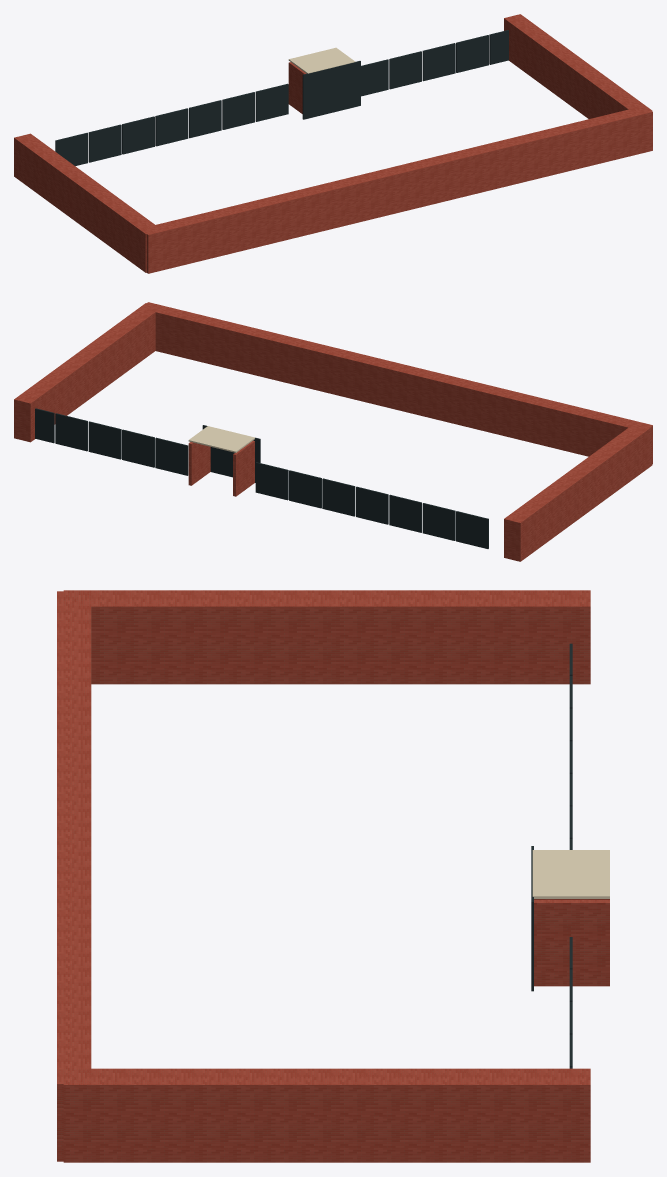
File: KOL_T1_NEW_MARKET__01_PrimaryStructure.fbx
The picture shows the model from 3 angles, top to bottom: view 1: azimuth 30°, elevation 25°; view 2: azimuth 150°, elevation 25°; view 3: azimuth 270°, elevation 25°; orthographic projection. The views are drawn at different scales.
Parts seen in each view (by area): view 1: KOL_T1_NEW_MARKET__01_PrimaryStructure__KOL_T1_B4_Brick_00, KOL_T1_NEW_MARKET__01_PrimaryStructure__KOL_T1_B4_Dark_00, KOL_T1_NEW_MARKET__01_PrimaryStructure__KOL_T1_B4_Ivory_00; view 2: KOL_T1_NEW_MARKET__01_PrimaryStructure__KOL_T1_B4_Brick_00, KOL_T1_NEW_MARKET__01_PrimaryStructure__KOL_T1_B4_Dark_00, KOL_T1_NEW_MARKET__01_PrimaryStructure__KOL_T1_B4_Ivory_00; view 3: KOL_T1_NEW_MARKET__01_PrimaryStructure__KOL_T1_B4_Brick_00, KOL_T1_NEW_MARKET__01_PrimaryStructure__KOL_T1_B4_Ivory_00, KOL_T1_NEW_MARKET__01_PrimaryStructure__KOL_T1_B4_Dark_00.
Boxes of the visible parts, x1=… form: KOL_T1_NEW_MARKET__01_PrimaryStructure__KOL_T1_B4_Brick_00: x1=14, y1=14, x2=652, y2=273; KOL_T1_NEW_MARKET__01_PrimaryStructure__KOL_T1_B4_Dark_00: x1=55, y1=30, x2=508, y2=165; KOL_T1_NEW_MARKET__01_PrimaryStructure__KOL_T1_B4_Ivory_00: x1=288, y1=47, x2=355, y2=73; KOL_T1_NEW_MARKET__01_PrimaryStructure__KOL_T1_B4_Brick_00: x1=14, y1=302, x2=652, y2=561; KOL_T1_NEW_MARKET__01_PrimaryStructure__KOL_T1_B4_Dark_00: x1=35, y1=408, x2=488, y2=548; KOL_T1_NEW_MARKET__01_PrimaryStructure__KOL_T1_B4_Ivory_00: x1=188, y1=426, x2=254, y2=452; KOL_T1_NEW_MARKET__01_PrimaryStructure__KOL_T1_B4_Brick_00: x1=57, y1=590, x2=609, y2=1162; KOL_T1_NEW_MARKET__01_PrimaryStructure__KOL_T1_B4_Ivory_00: x1=532, y1=850, x2=609, y2=898; KOL_T1_NEW_MARKET__01_PrimaryStructure__KOL_T1_B4_Dark_00: x1=531, y1=643, x2=572, y2=1068.
Bounding box in the file's own units: 273 × 23.45 × 129.
Materials: 3 (1 with a texture image).
